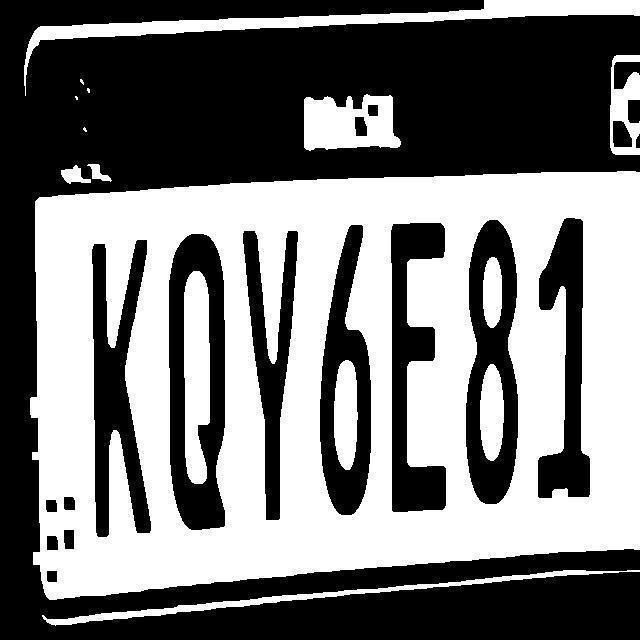1: (530, 214, 595, 501)
6: (318, 223, 376, 518)
8: (463, 215, 521, 508)
e: (386, 219, 449, 516)
k: (86, 236, 154, 541)
q: (166, 228, 227, 536)
y: (241, 227, 302, 524)
